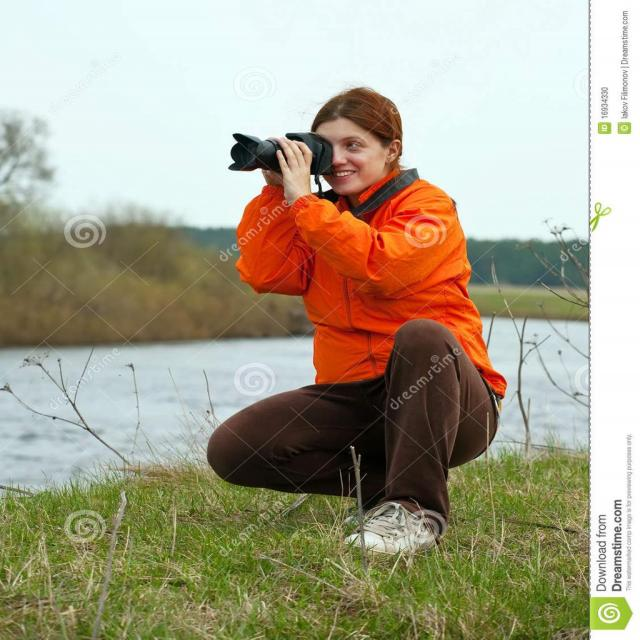nomask: (307, 115, 377, 193)
